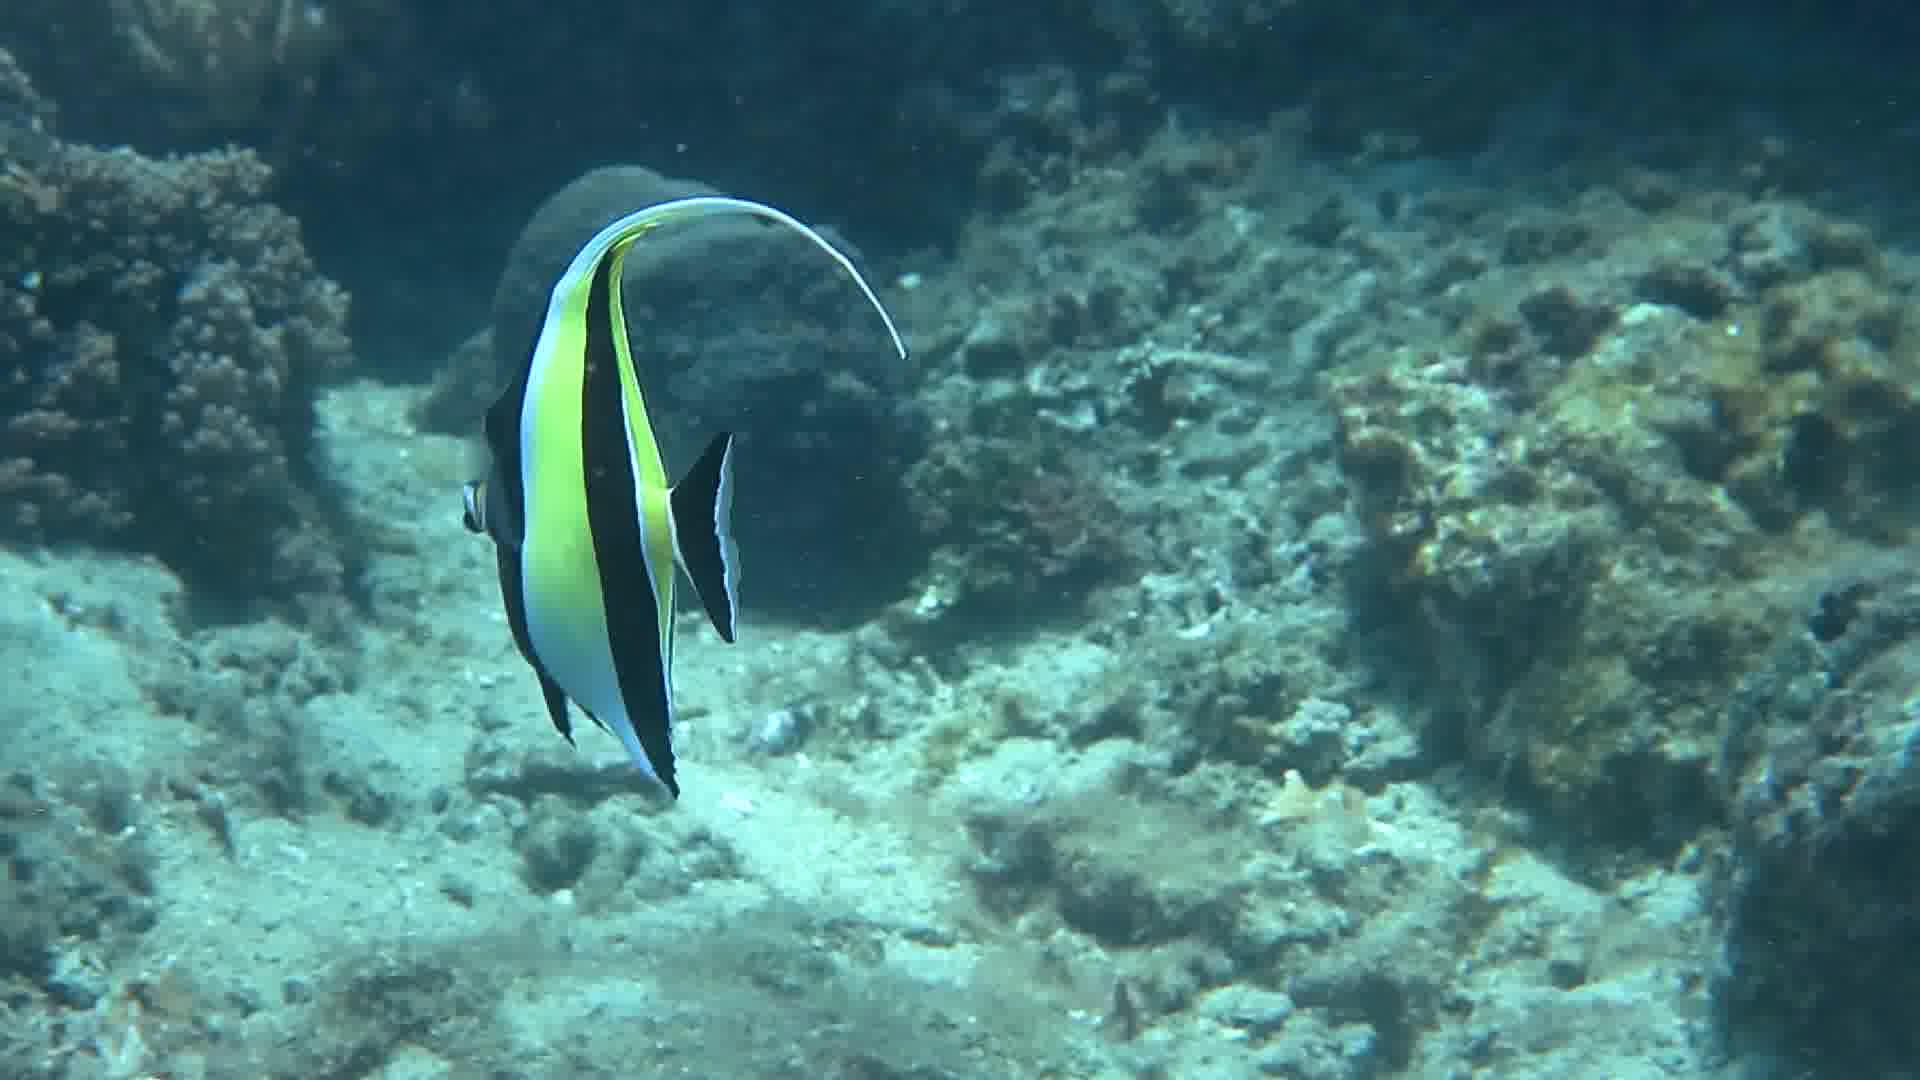Zanclus cornutus: (440, 138, 798, 882)
